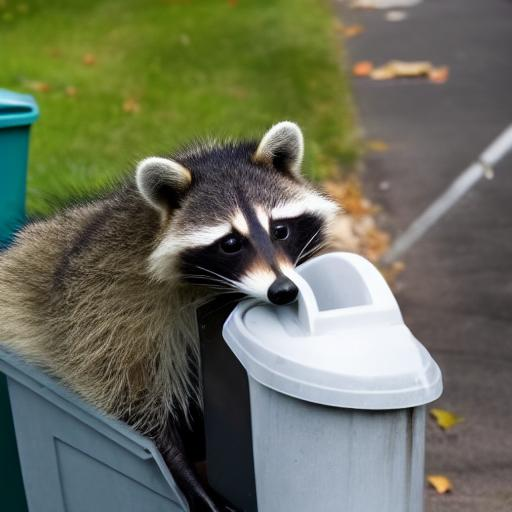raccoon: (0, 115, 350, 461)
